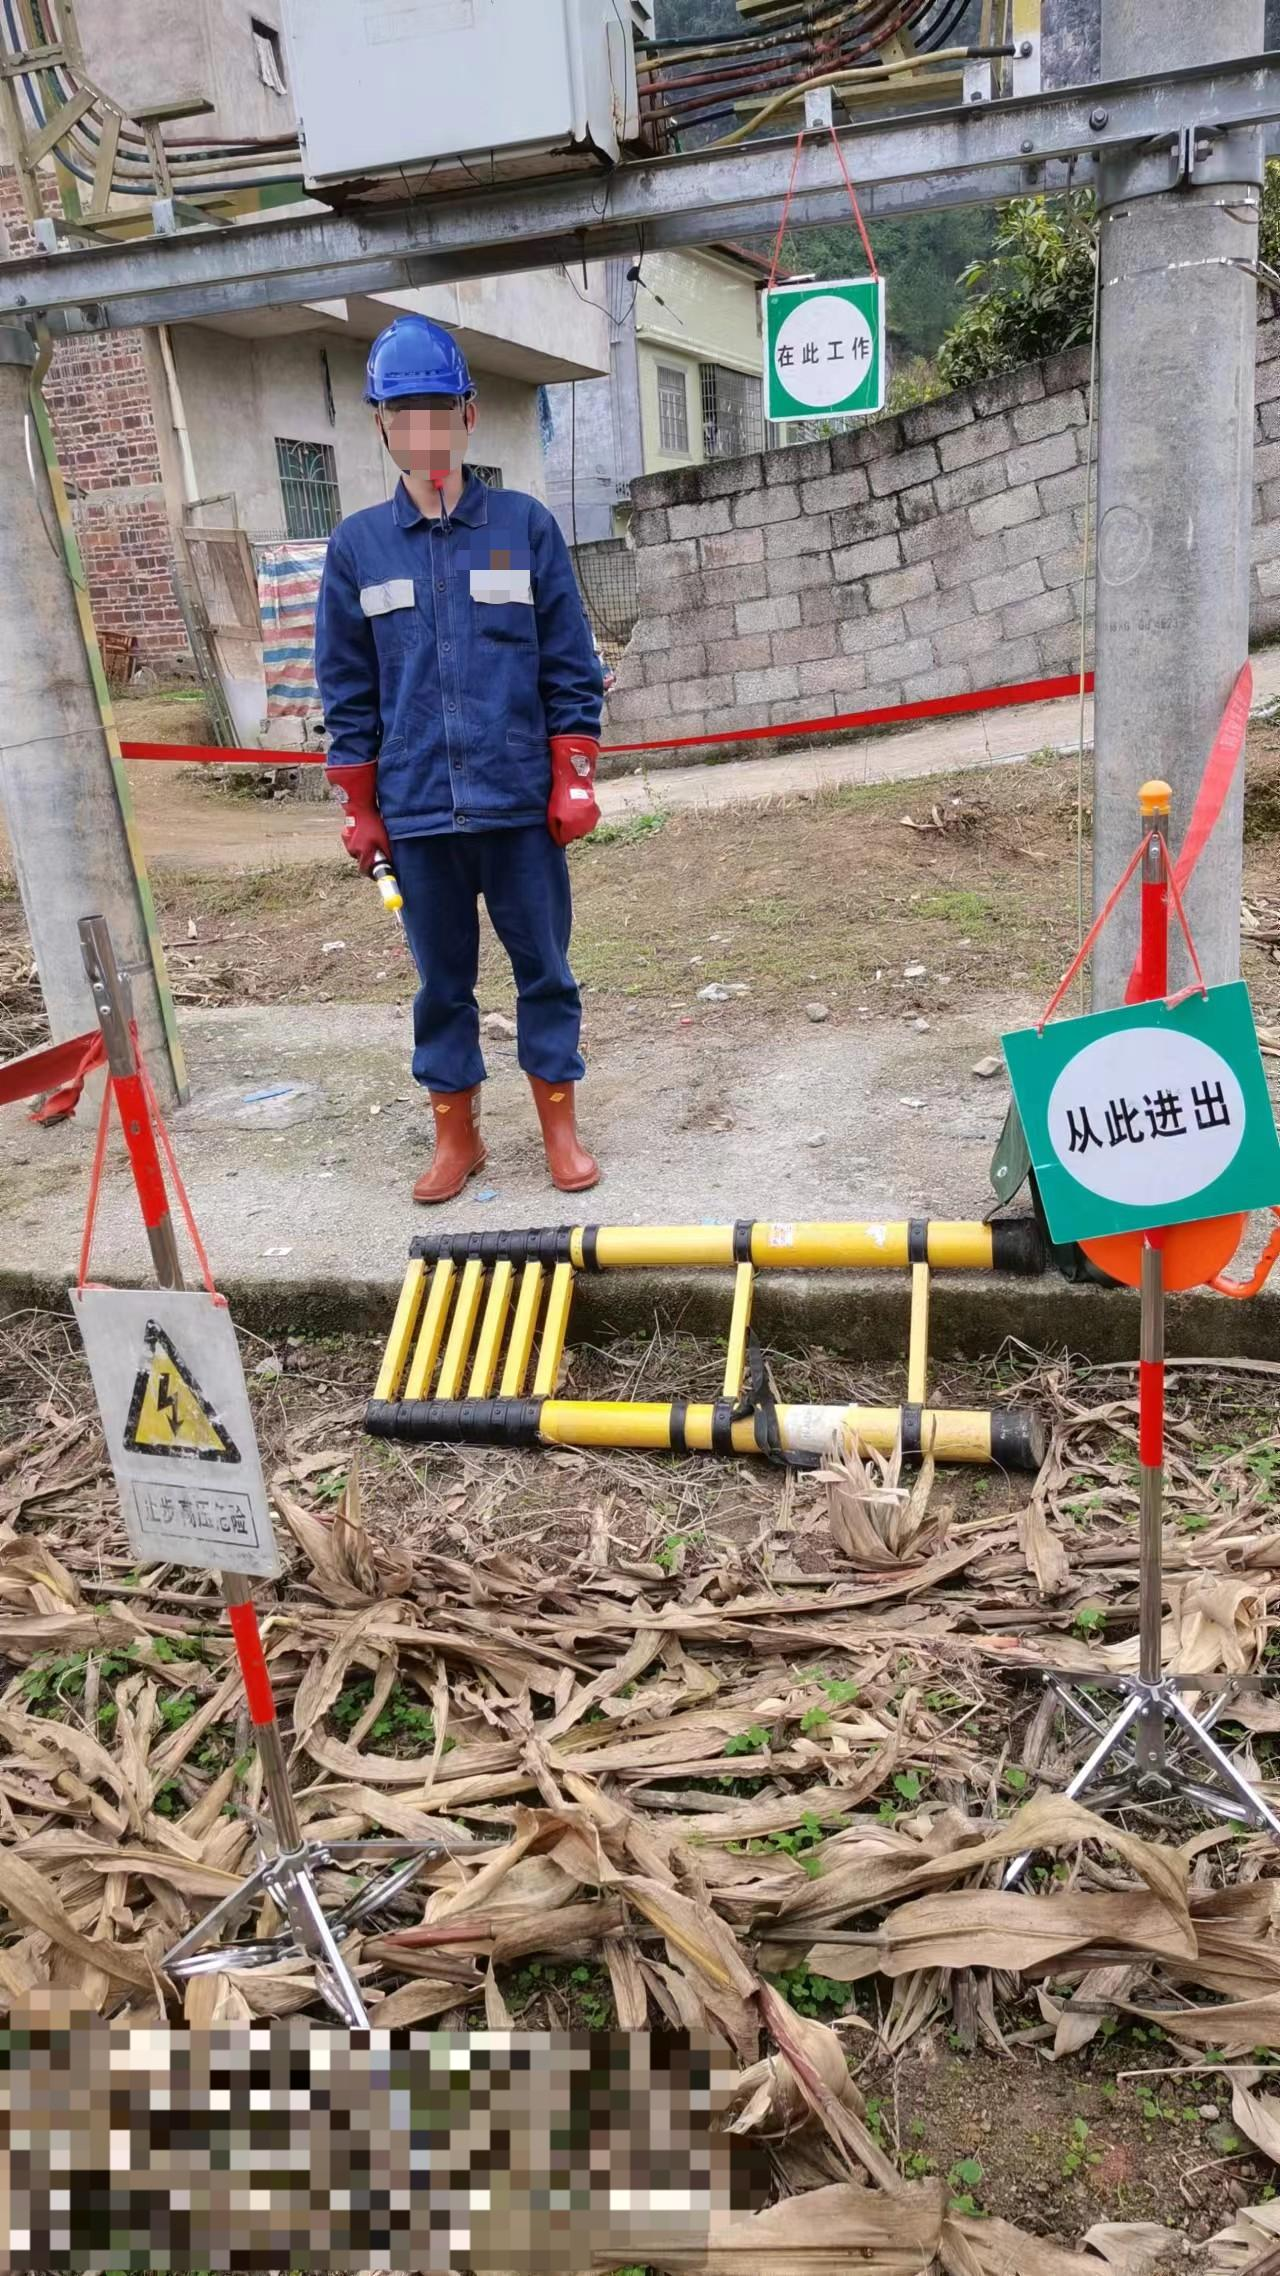halt: (361, 314, 481, 491)
